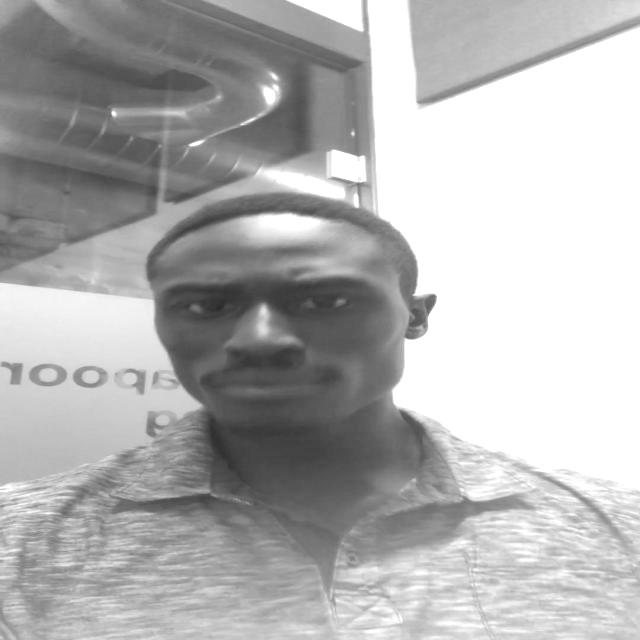real: (150, 213, 436, 429)
